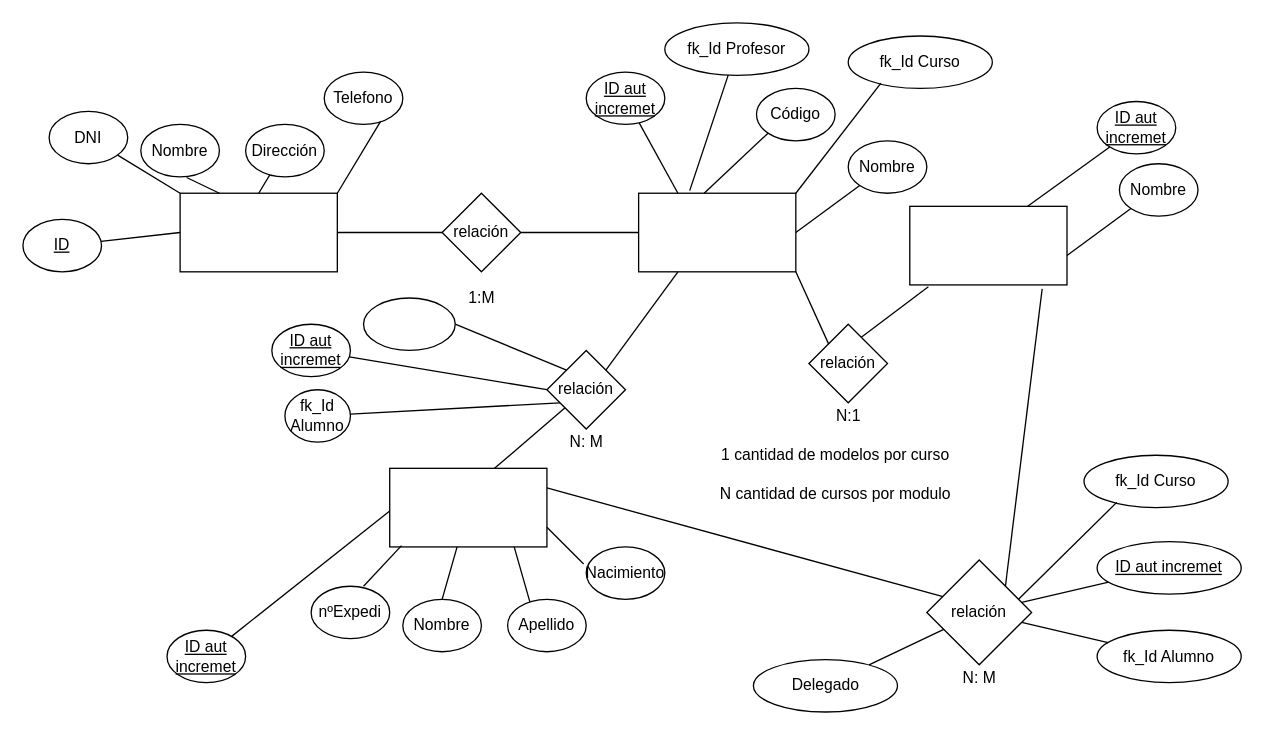
Image size: 1264x735. Some labels were removed from this diagram. Here are the shapes that lost their labels. From the top down, the centre of each, then its label:
At (x=258, y=232): "Profesores".
At (x=716, y=232): "Modulos".
At (x=987, y=245): "curso".
At (x=408, y=323): "fk_Id Modulo".
At (x=467, y=507): "Alumnos".
